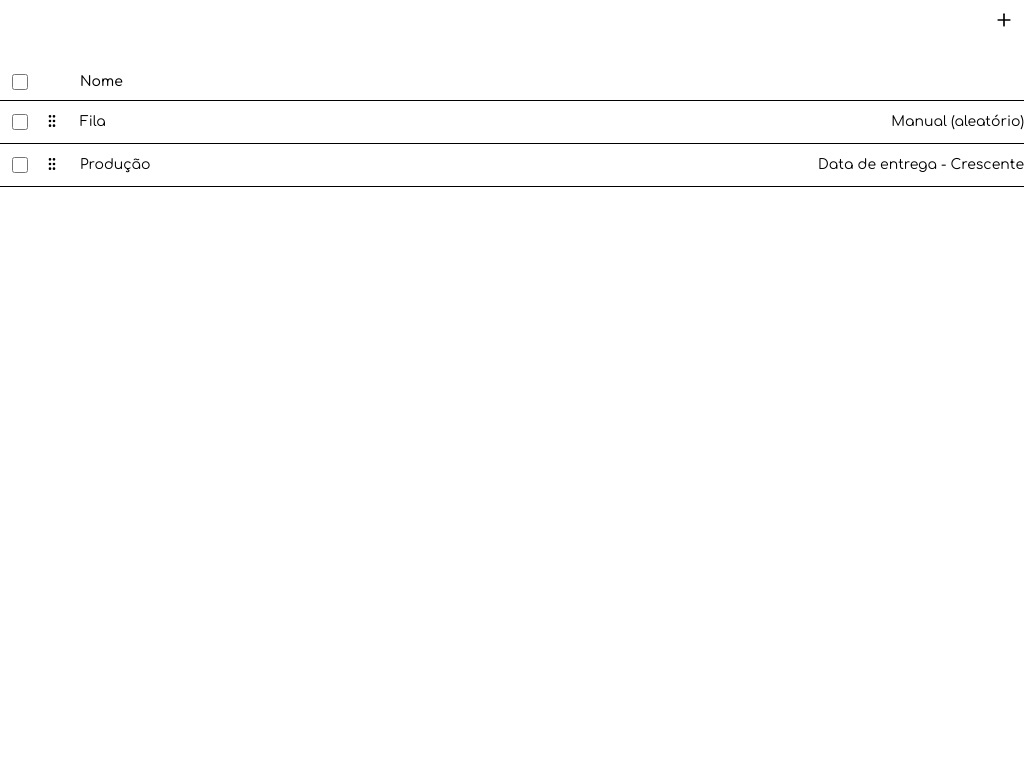
Test: StepManager › closes modal when close button is clicked
The image size is (1024, 768).
Step 1. Click the button named "Nova etapa" → x=1004, y=20, box [984,0,1023,40]
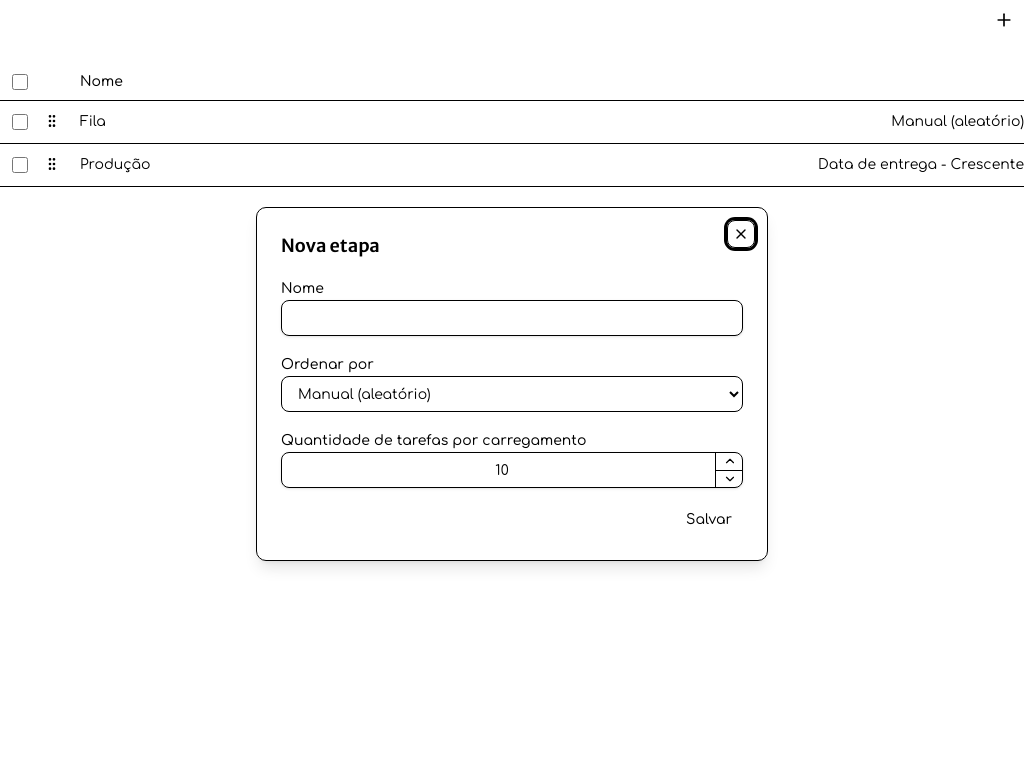
Step 2. Click the button named "Fechar" → x=741, y=234, box [727,220,755,248]
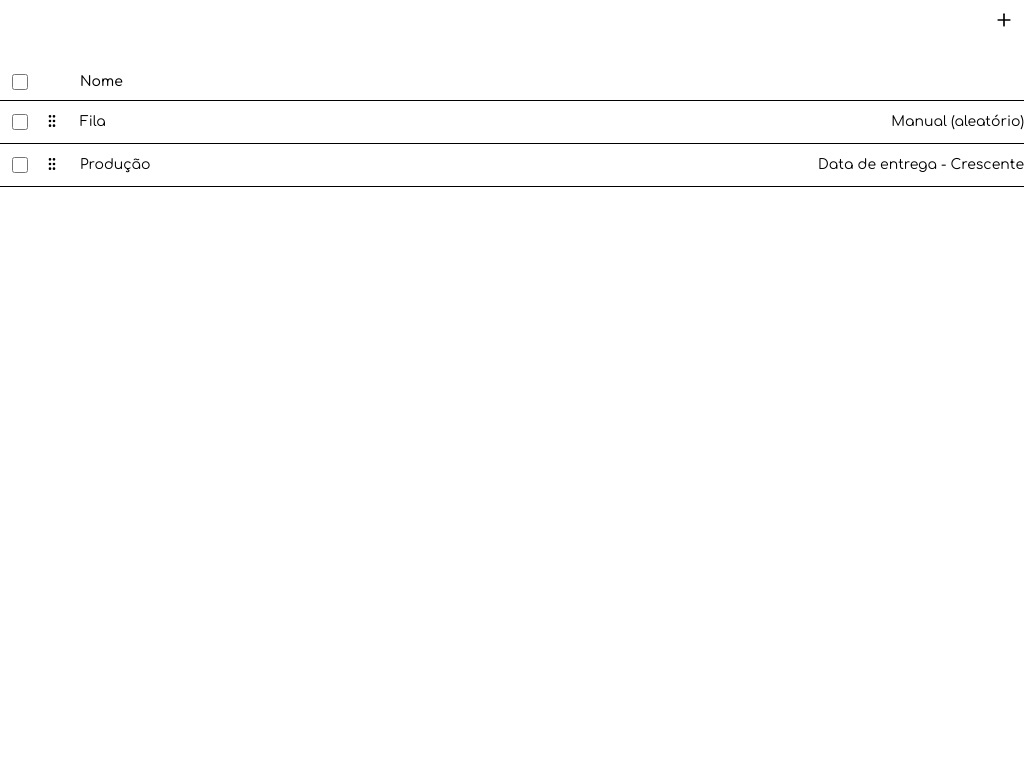
Expected: the dialog is gone
